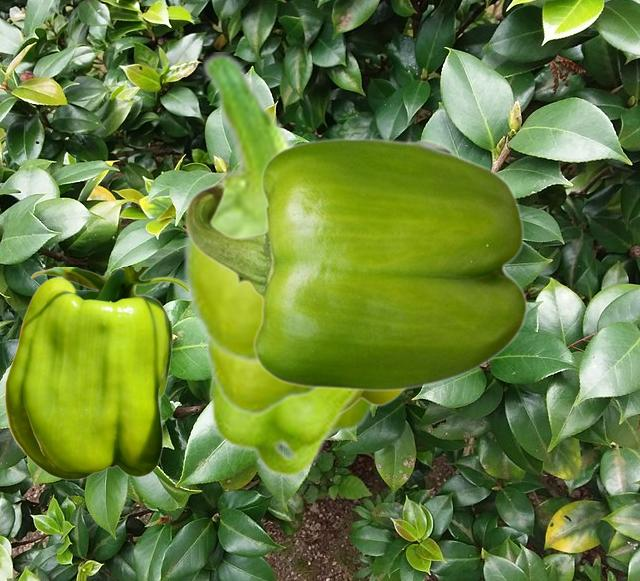bell_pepper: (184, 137, 527, 391), (4, 267, 189, 479), (181, 52, 297, 363), (207, 366, 364, 478), (204, 340, 322, 415), (282, 401, 376, 447), (347, 391, 405, 411)
